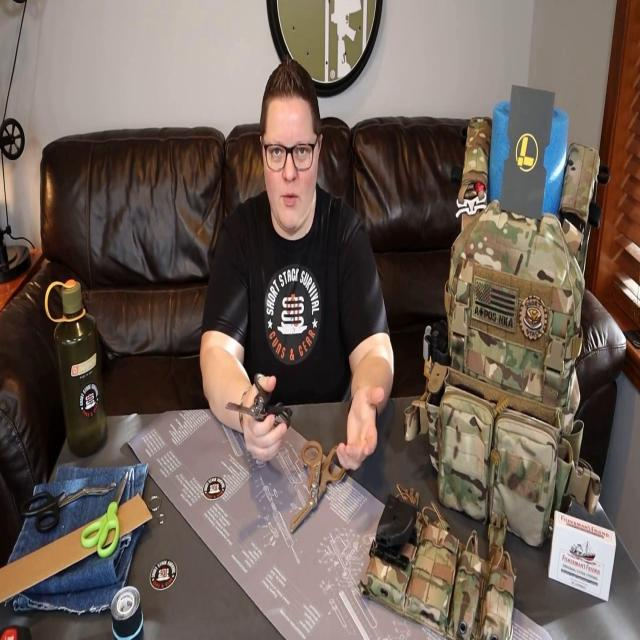scissor: (19, 479, 116, 534), (290, 439, 346, 533), (81, 470, 129, 558), (225, 373, 293, 432)
